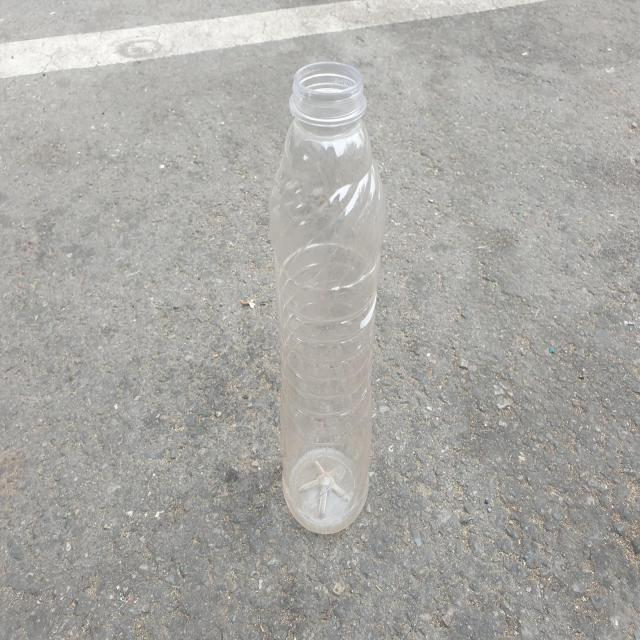plastic: (270, 61, 386, 534)
